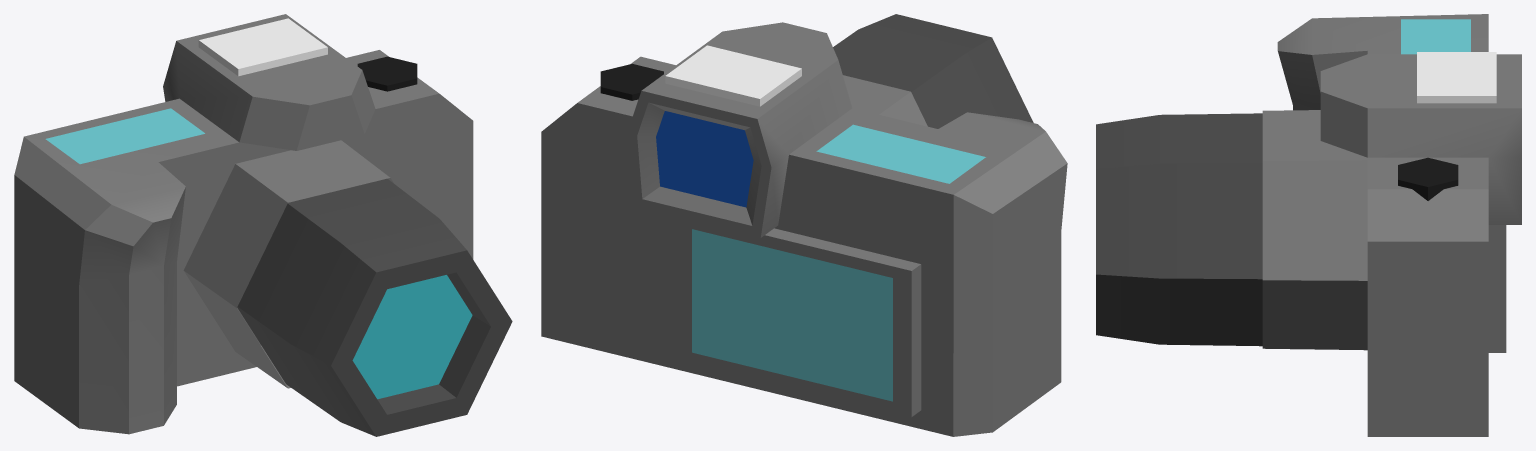
File: Camara.fbx
The picture shows the model from 3 angles, left to right: view 1: azimuth 30°, elevation 25°; view 2: azimuth 150°, elevation 25°; view 3: azimuth 270°, elevation 25°; orthographic projection. The views are drawn at different scales.
Parts seen in each view (by area): view 1: Camara; view 2: Camara; view 3: Camara.
Boxes of the visible parts, box(x1,y1,x2,y2) form: Camara: box(14, 14, 512, 436); Camara: box(541, 14, 1067, 436); Camara: box(1096, 14, 1521, 436).
Bounding box in the file's own units: 18.8 × 12.12 × 16.63.
